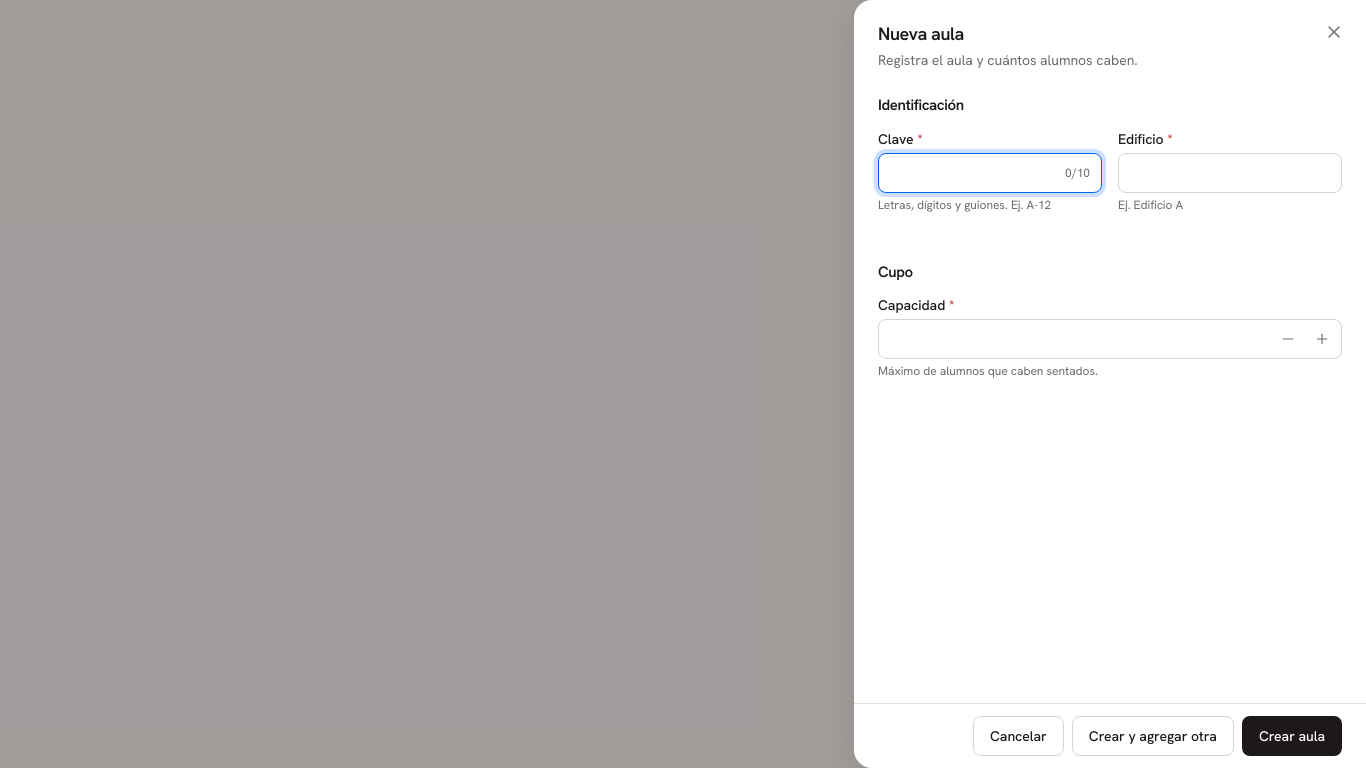
Test: AulaForm: alta en panel lateral › pasar de largo por un campo vacío no lo pinta de rojo; el error llega al enviar
Press Tab
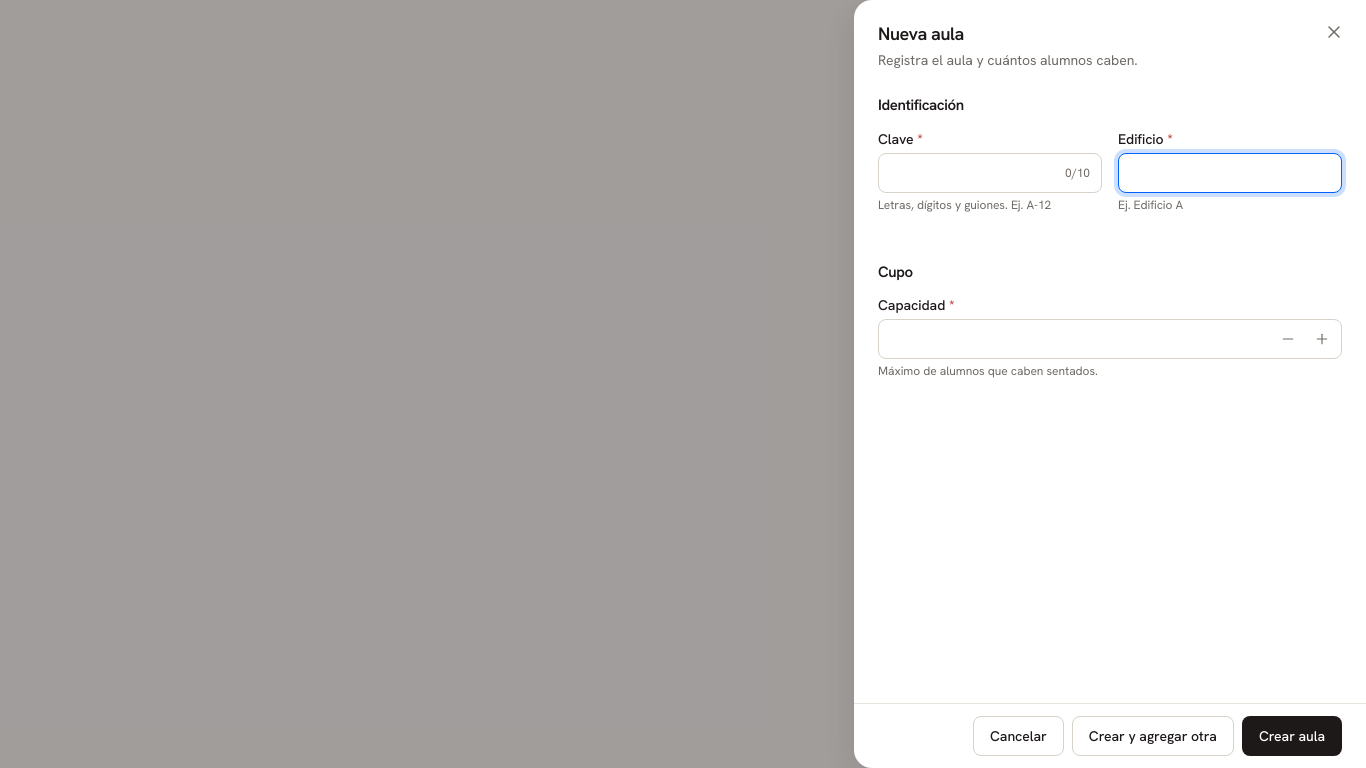
Press Tab
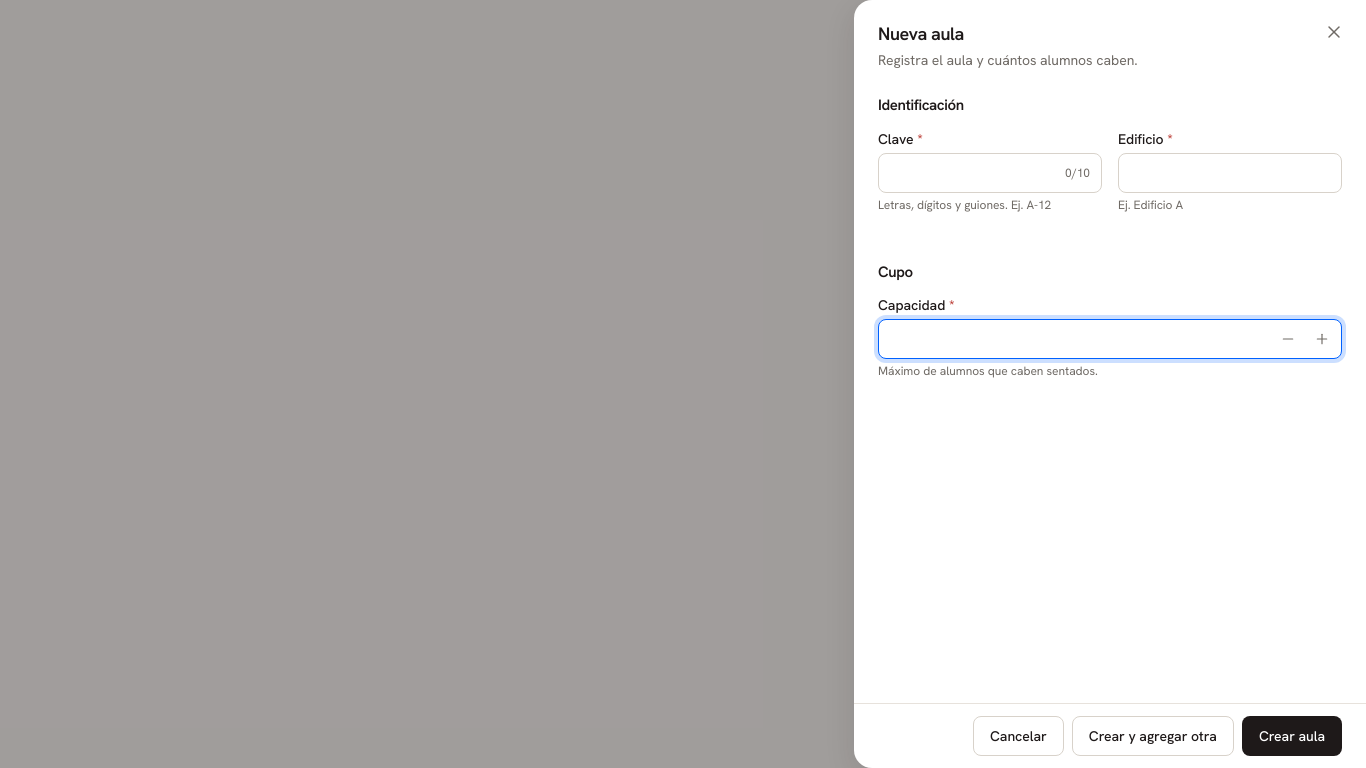
Click the button "Crear aula".
click(1292, 736)  # box [1242,716,1342,756]
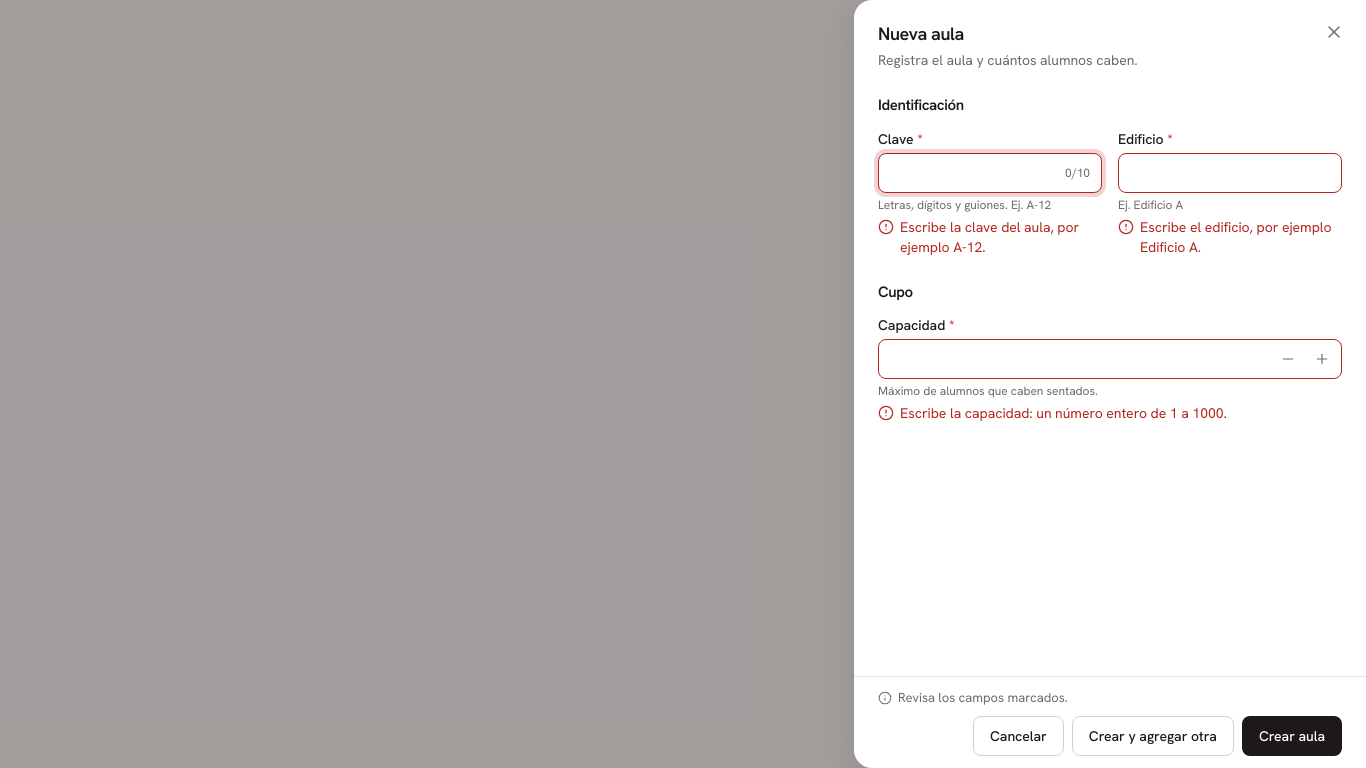
Result: the text "Escribe la clave del aula, por ejemplo A-12." is shown at [878,216,1102,256]
